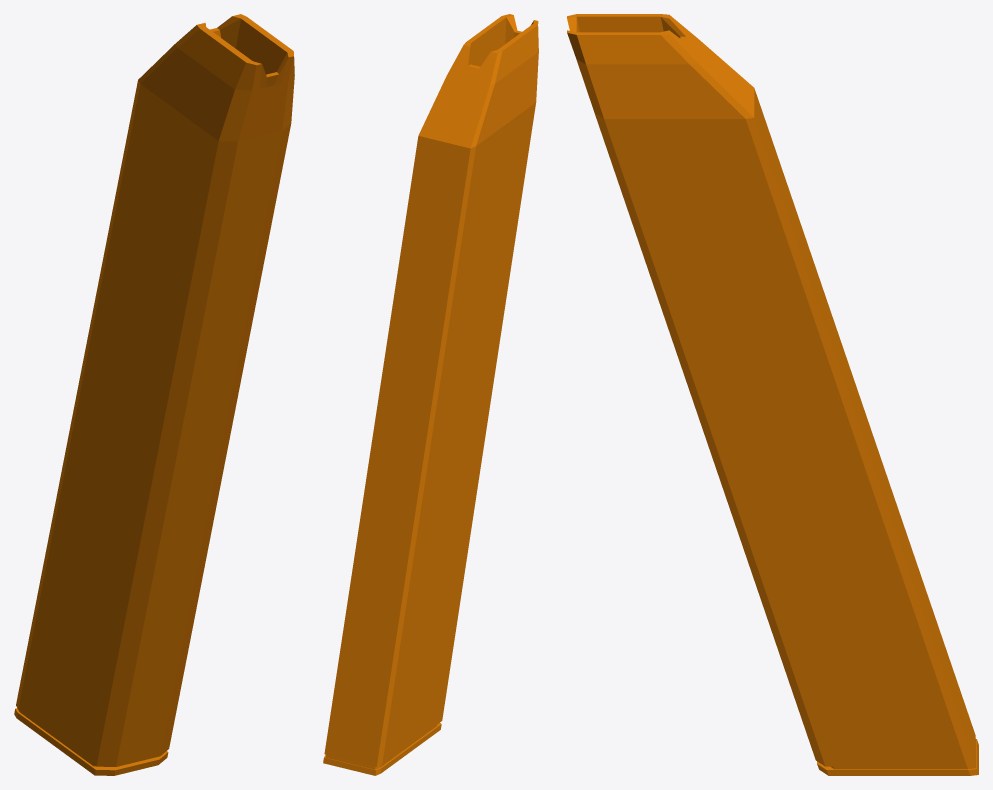
Rendered from smg-a-mag-empty.fbx.
The picture shows the model from 3 angles, left to right: view 1: azimuth 30°, elevation 25°; view 2: azimuth 150°, elevation 25°; view 3: azimuth 270°, elevation 25°; orthographic projection. The views are drawn at different scales.
Parts seen in each view (by area): view 1: SMG A Magazine; view 2: SMG A Magazine; view 3: SMG A Magazine.
Boxes of the visible parts, left/top/right/bottom form: SMG A Magazine: left=14, top=14, right=294, bottom=775; SMG A Magazine: left=323, top=14, right=538, bottom=775; SMG A Magazine: left=567, top=14, right=978, bottom=775.
Bounding box in the file's own units: 2.36 × 25.14 × 12.76.
